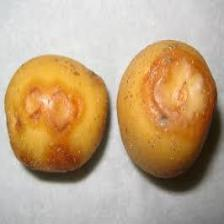Diseased-fungal potato: (116, 33, 215, 186), (3, 46, 110, 179)
